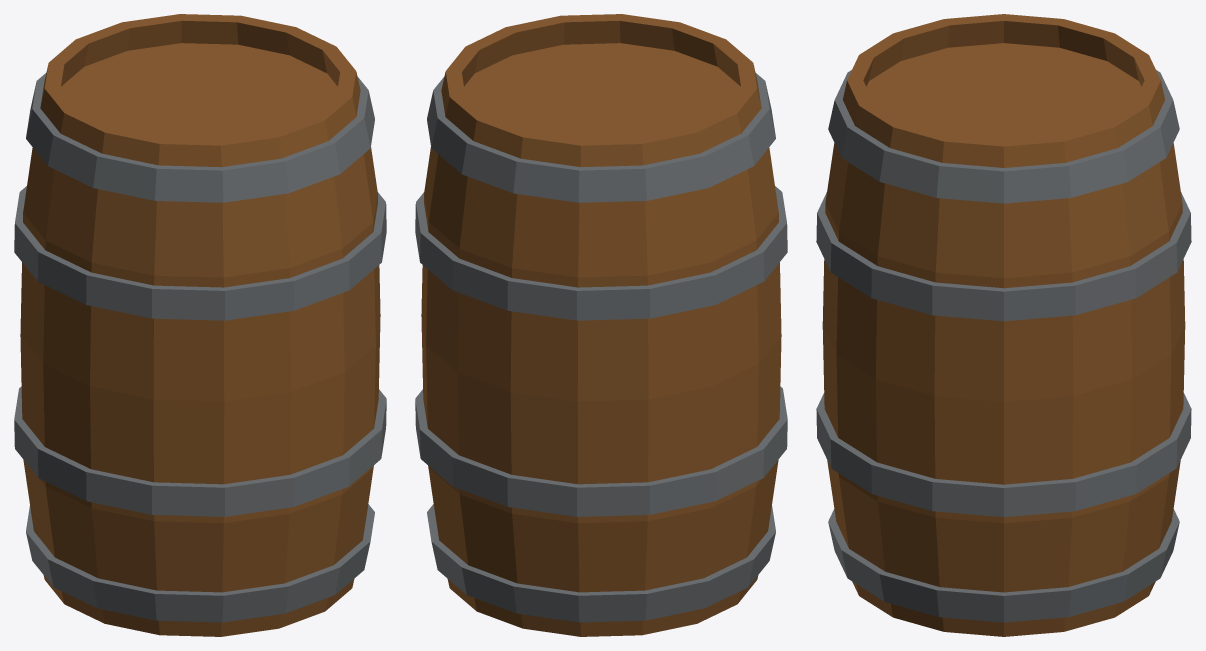
Rendered from SM_Barrel_01.fbx.
3 views of the same model, side by side, from view 1: azimuth 30°, elevation 25°; view 2: azimuth 150°, elevation 25°; view 3: azimuth 270°, elevation 25° (orthographic).
Parts seen in each view (by area): view 1: SM_Barrel_01; view 2: SM_Barrel_01; view 3: SM_Barrel_01.
Part boxes in pixels (x1,y1,x2,y2): SM_Barrel_01: (14, 14, 386, 636); SM_Barrel_01: (415, 14, 787, 636); SM_Barrel_01: (816, 14, 1191, 636).
Bounding box in the file's own units: 0.6932 × 1 × 0.6932.
